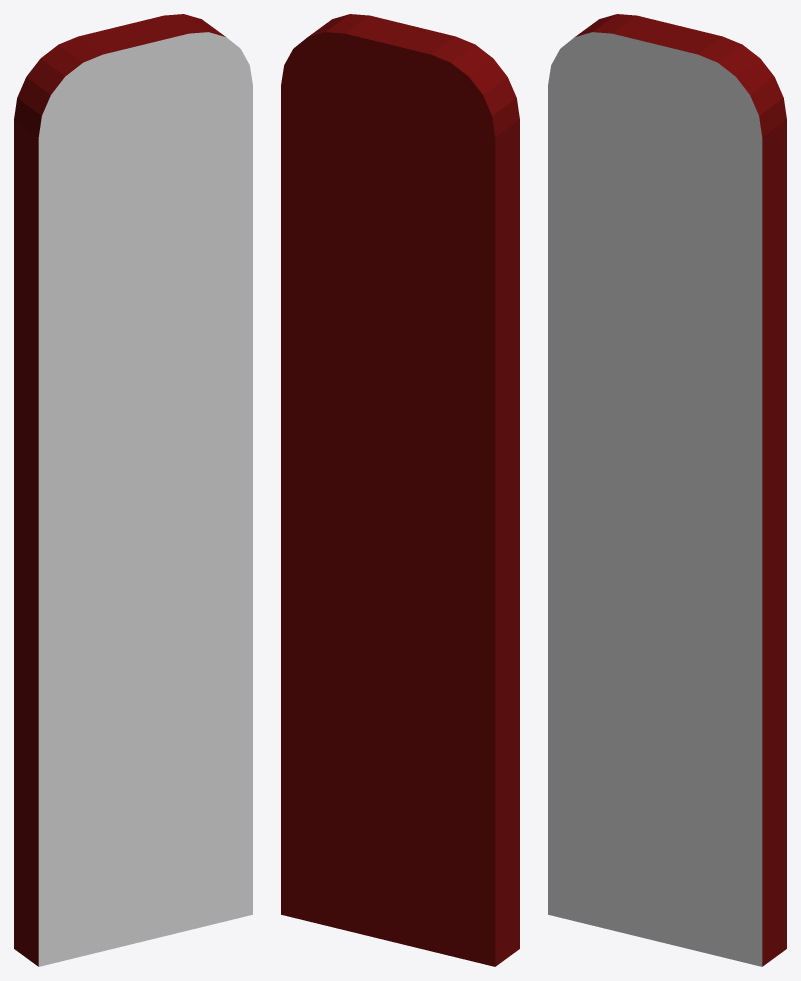
File: AmoTall.fbx
3 views of the same model, side by side, from view 1: azimuth 30°, elevation 25°; view 2: azimuth 150°, elevation 25°; view 3: azimuth 330°, elevation 25° (orthographic).
Visible parts, largest first — view 1: AmoTall; view 2: AmoTall; view 3: AmoTall.
Part boxes in pixels (x1,y1,x2,y2): AmoTall: [14, 14, 252, 966]; AmoTall: [281, 14, 519, 966]; AmoTall: [548, 14, 786, 966].
Size of the model in its own units: 50 by 200 by 10.
